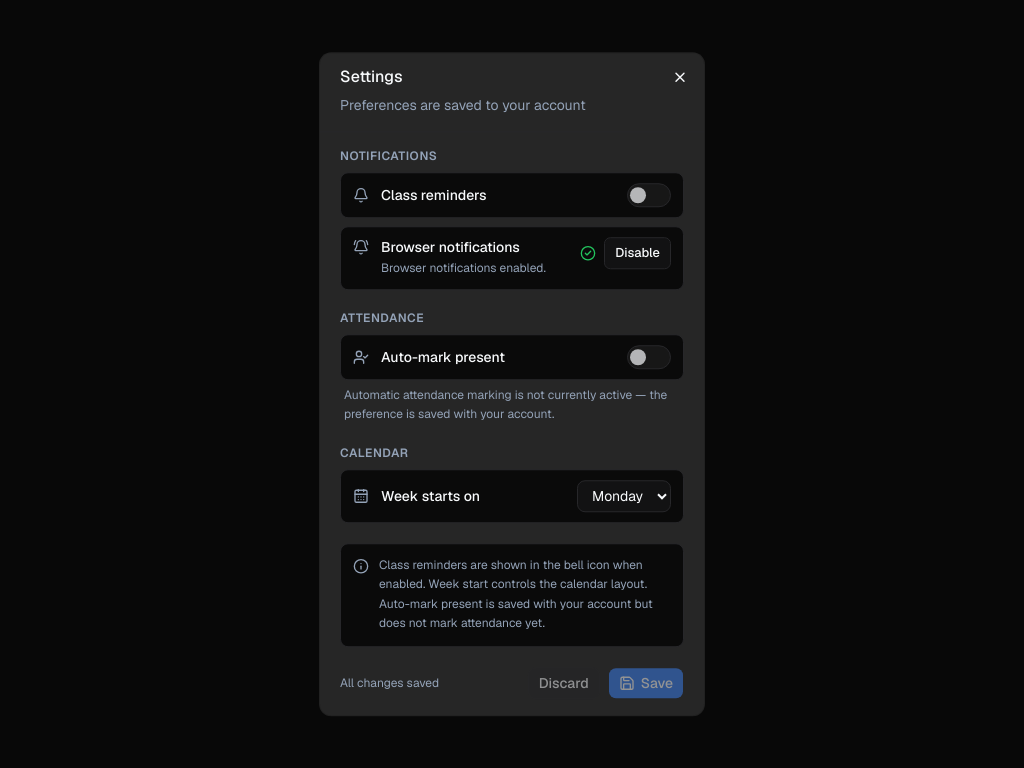
Test: SettingsModal dirty state (UIA-002) › turns dirty after a real modification and enables Save and Discard
This screenshot has width=1024, height=768.
Click the switch named "class reminders" at (649, 195), box x1=627 y1=183 x2=671 y2=207
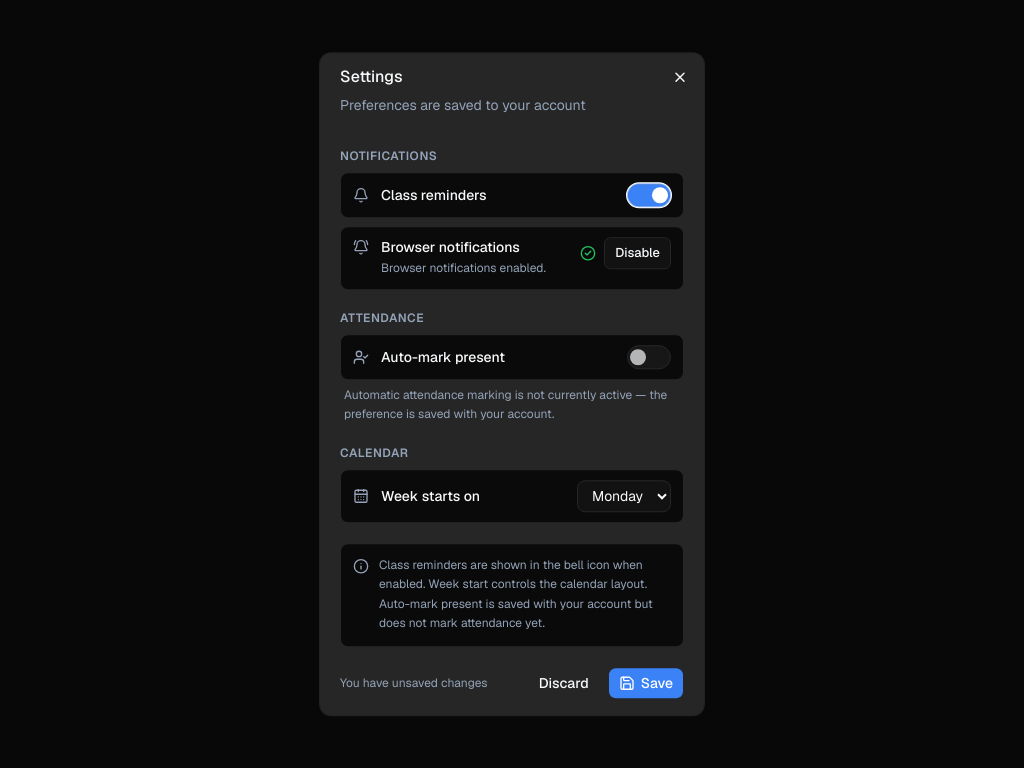
Expected: the text "You have unsaved changes" is shown, x1=340 y1=675 x2=488 y2=691
Expected: the button "Save" is enabled, x1=608 y1=667 x2=684 y2=699
Expected: the button "Discard" is enabled, x1=528 y1=667 x2=600 y2=699
